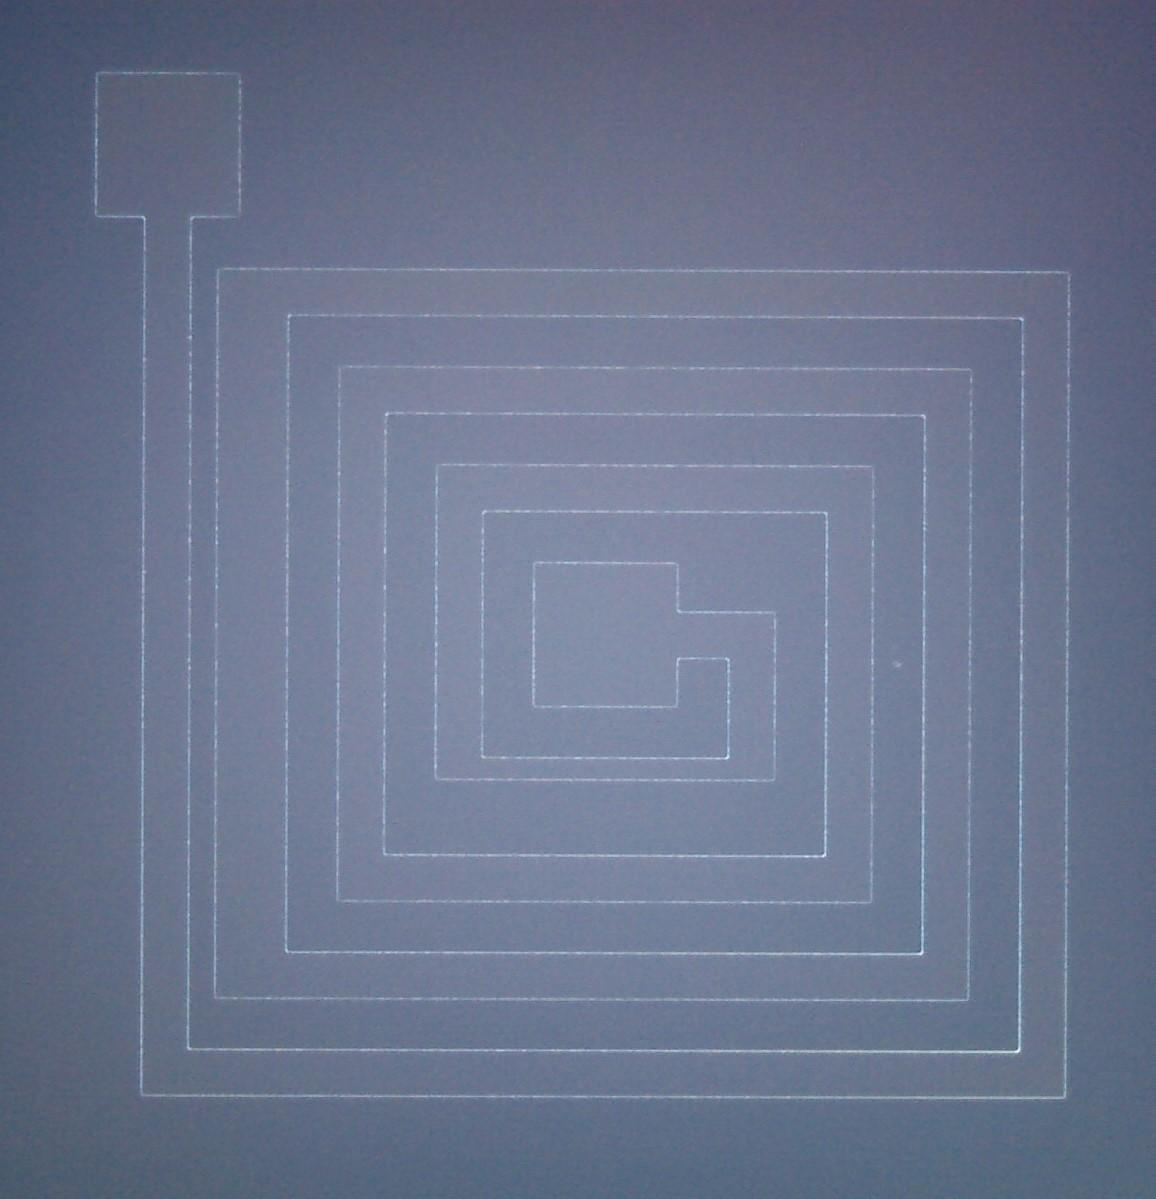s_point: (886, 655, 907, 674)
width: (115, 254, 405, 1021), (415, 631, 800, 927)
